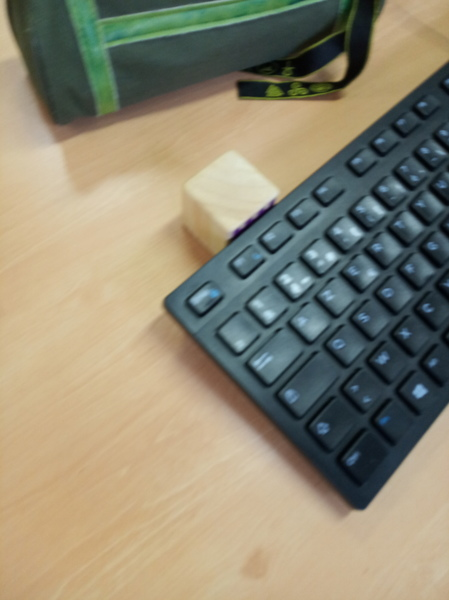violet: (183, 160, 280, 235)
